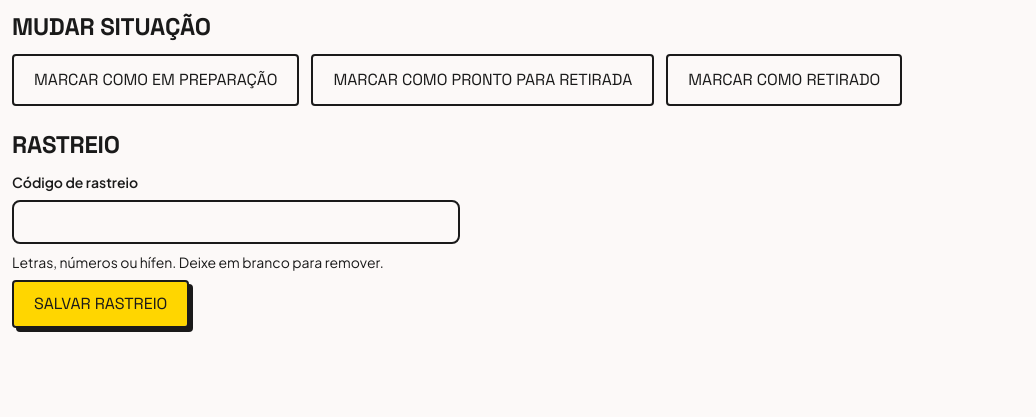
Scenario: RF29 oferece só as próximas situações e pede confirmação, porque não dá para voltar
Click the button "Marcar como Pronto para retirada". click: (483, 80)
box: [311,54,654,106]
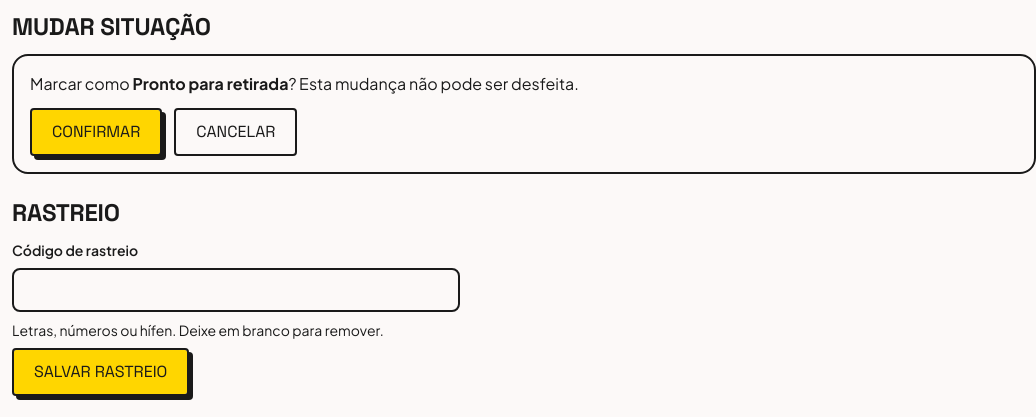
Result: the text "não pode ser desfeita" is shown at [288,73,579,94]
Click the button "Cancelar". click: (236, 132)
box: [174,108,297,156]
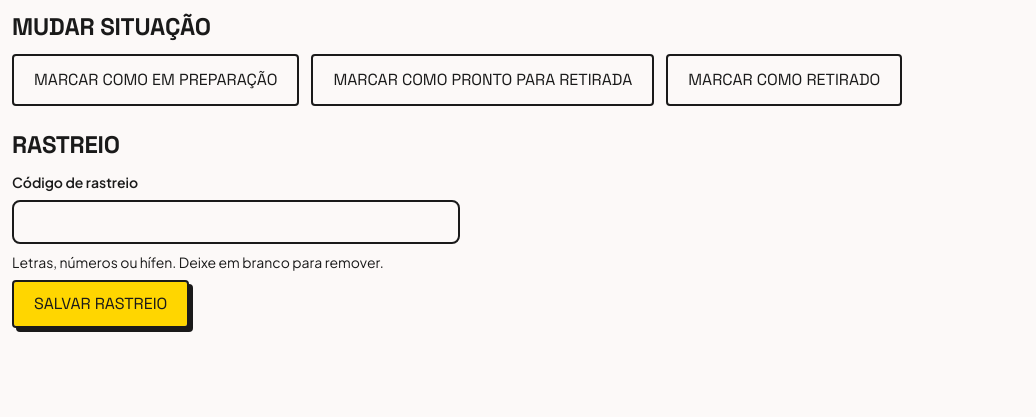
Click the button "Marcar como Pronto para retirada". click: (483, 80)
box: [311,54,654,106]
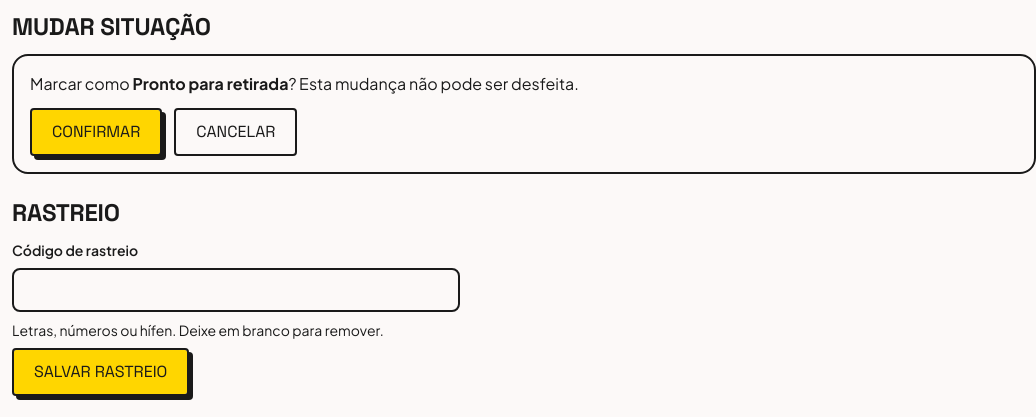
Click the button "Confirmar". click: (96, 132)
box: [30,108,162,156]
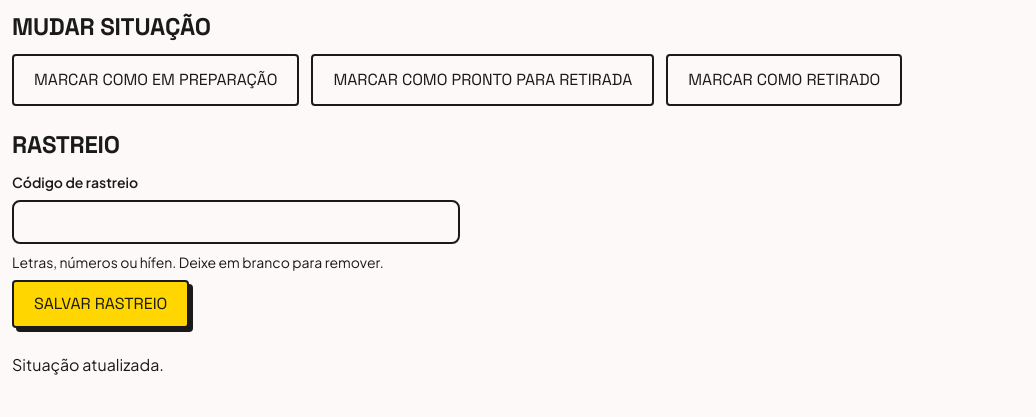
Result: the message reads "Situação atualizada." at [12,354,164,375]
